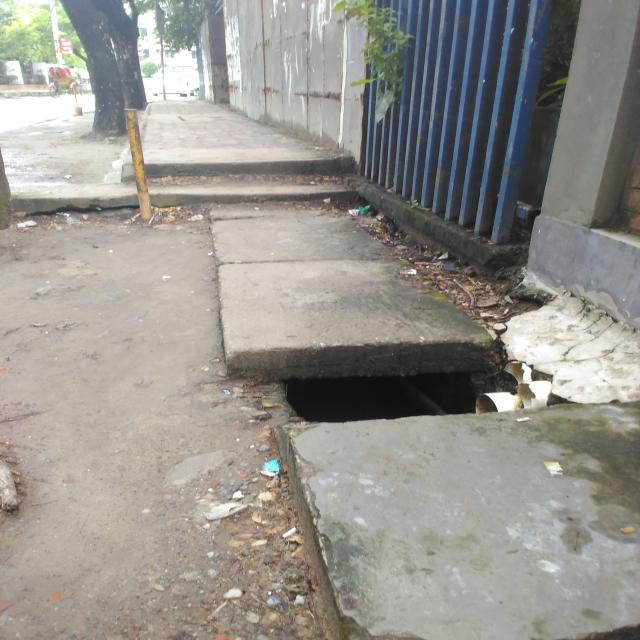drain_inlet: (261, 335, 572, 427)
